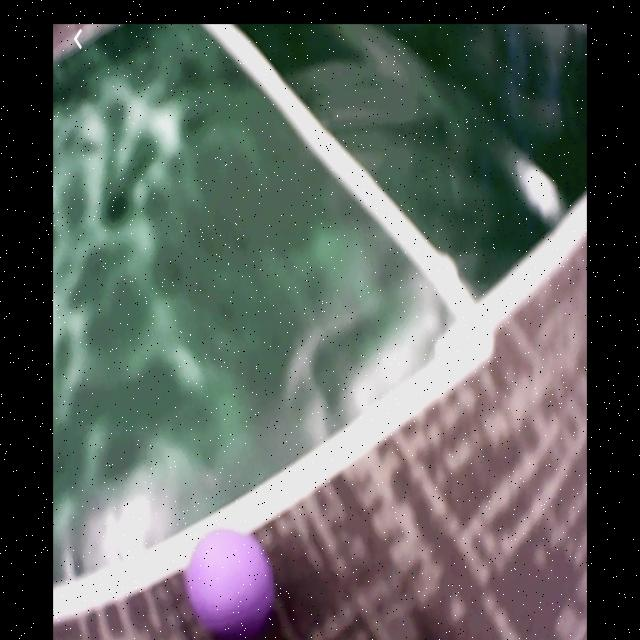ball: (187, 526, 273, 629)
